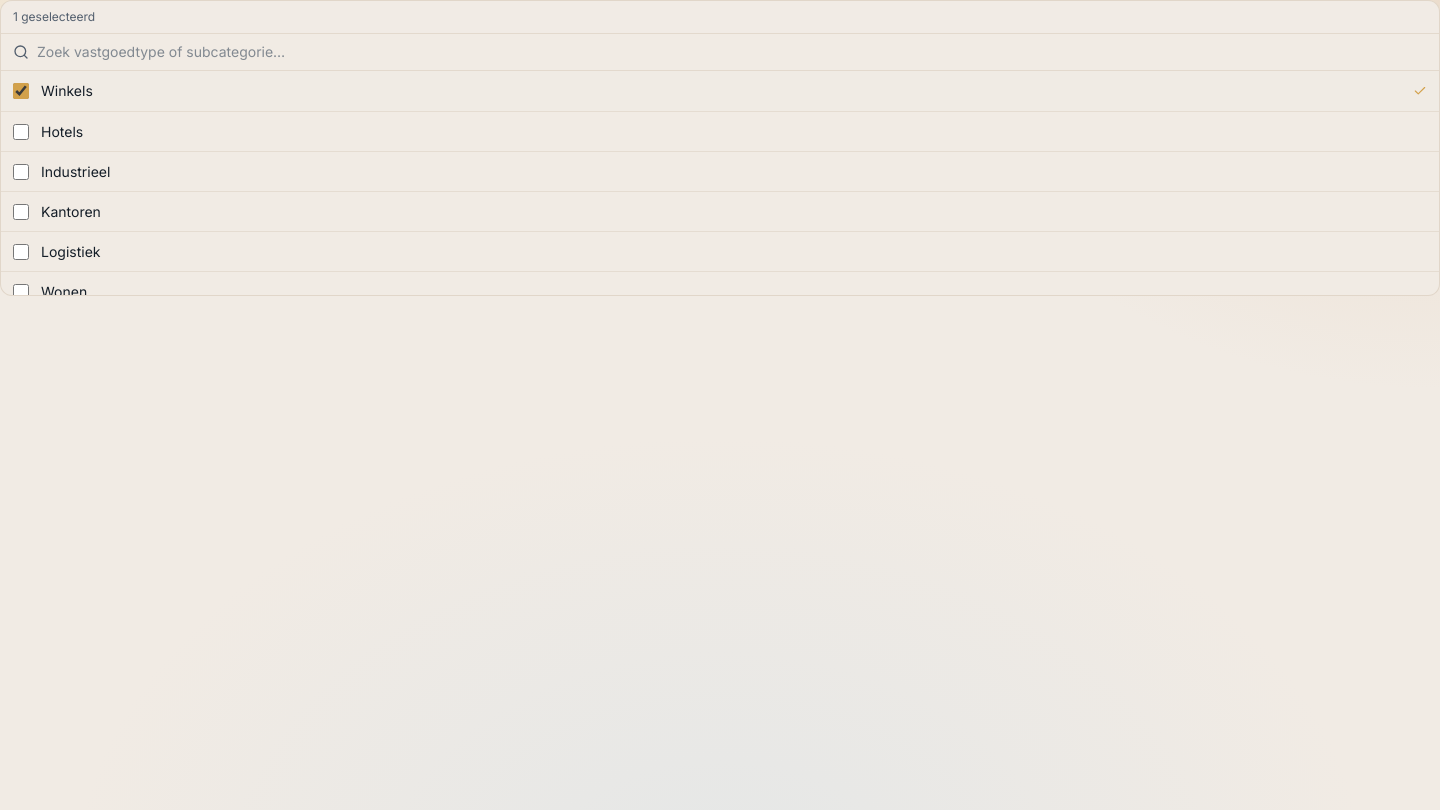
Test: Compacte taxonomiepicker › kan zoeken zonder bestaande selecties te verliezen
This screenshot has width=1440, height=810.
Later steps or results of the test are not shown.
In the search field named "Zoeken in classificatie": coordinates (732, 52) [37,42,1427,62], type "Zorg"
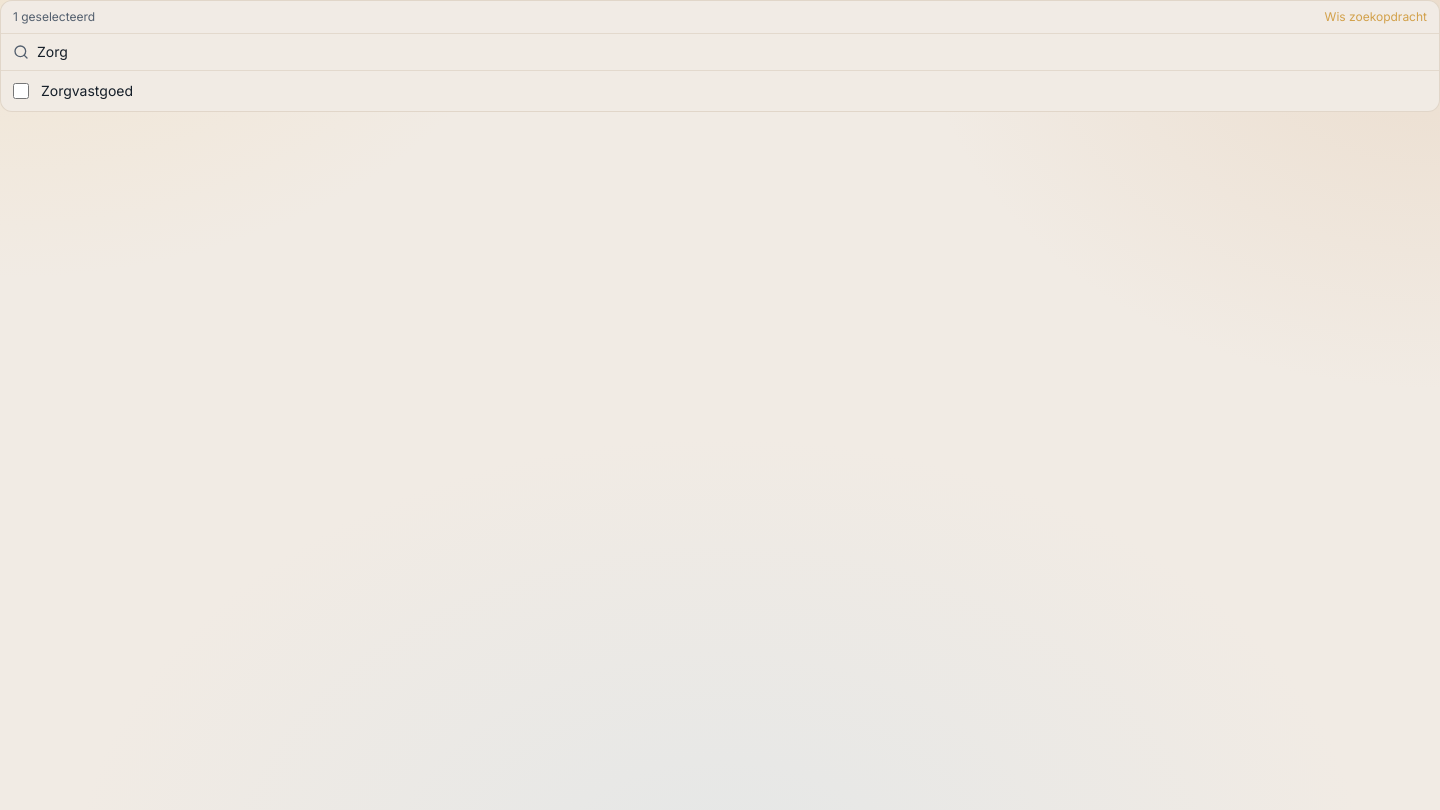
Expected: the checkbox labelled "Zorgvastgoed" is shown, [13,83,29,99]
Expected: the text "Winkels" is gone
